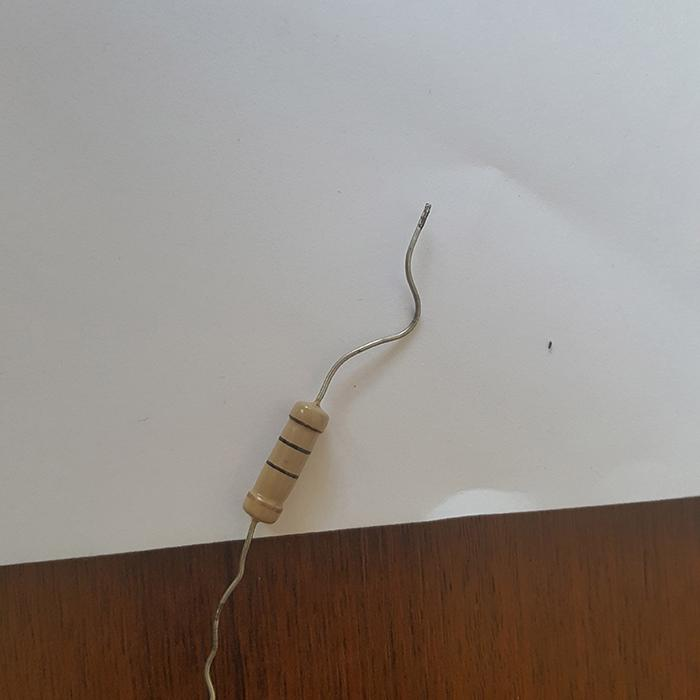resistor: (244, 399, 327, 524)
